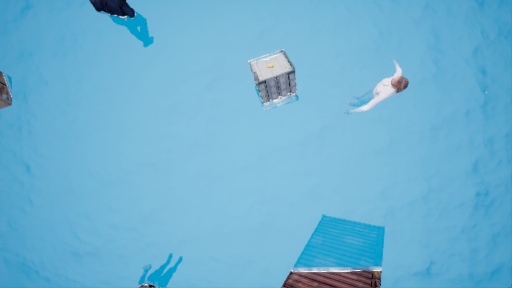person: (338, 63, 415, 119), (88, 1, 160, 54)
